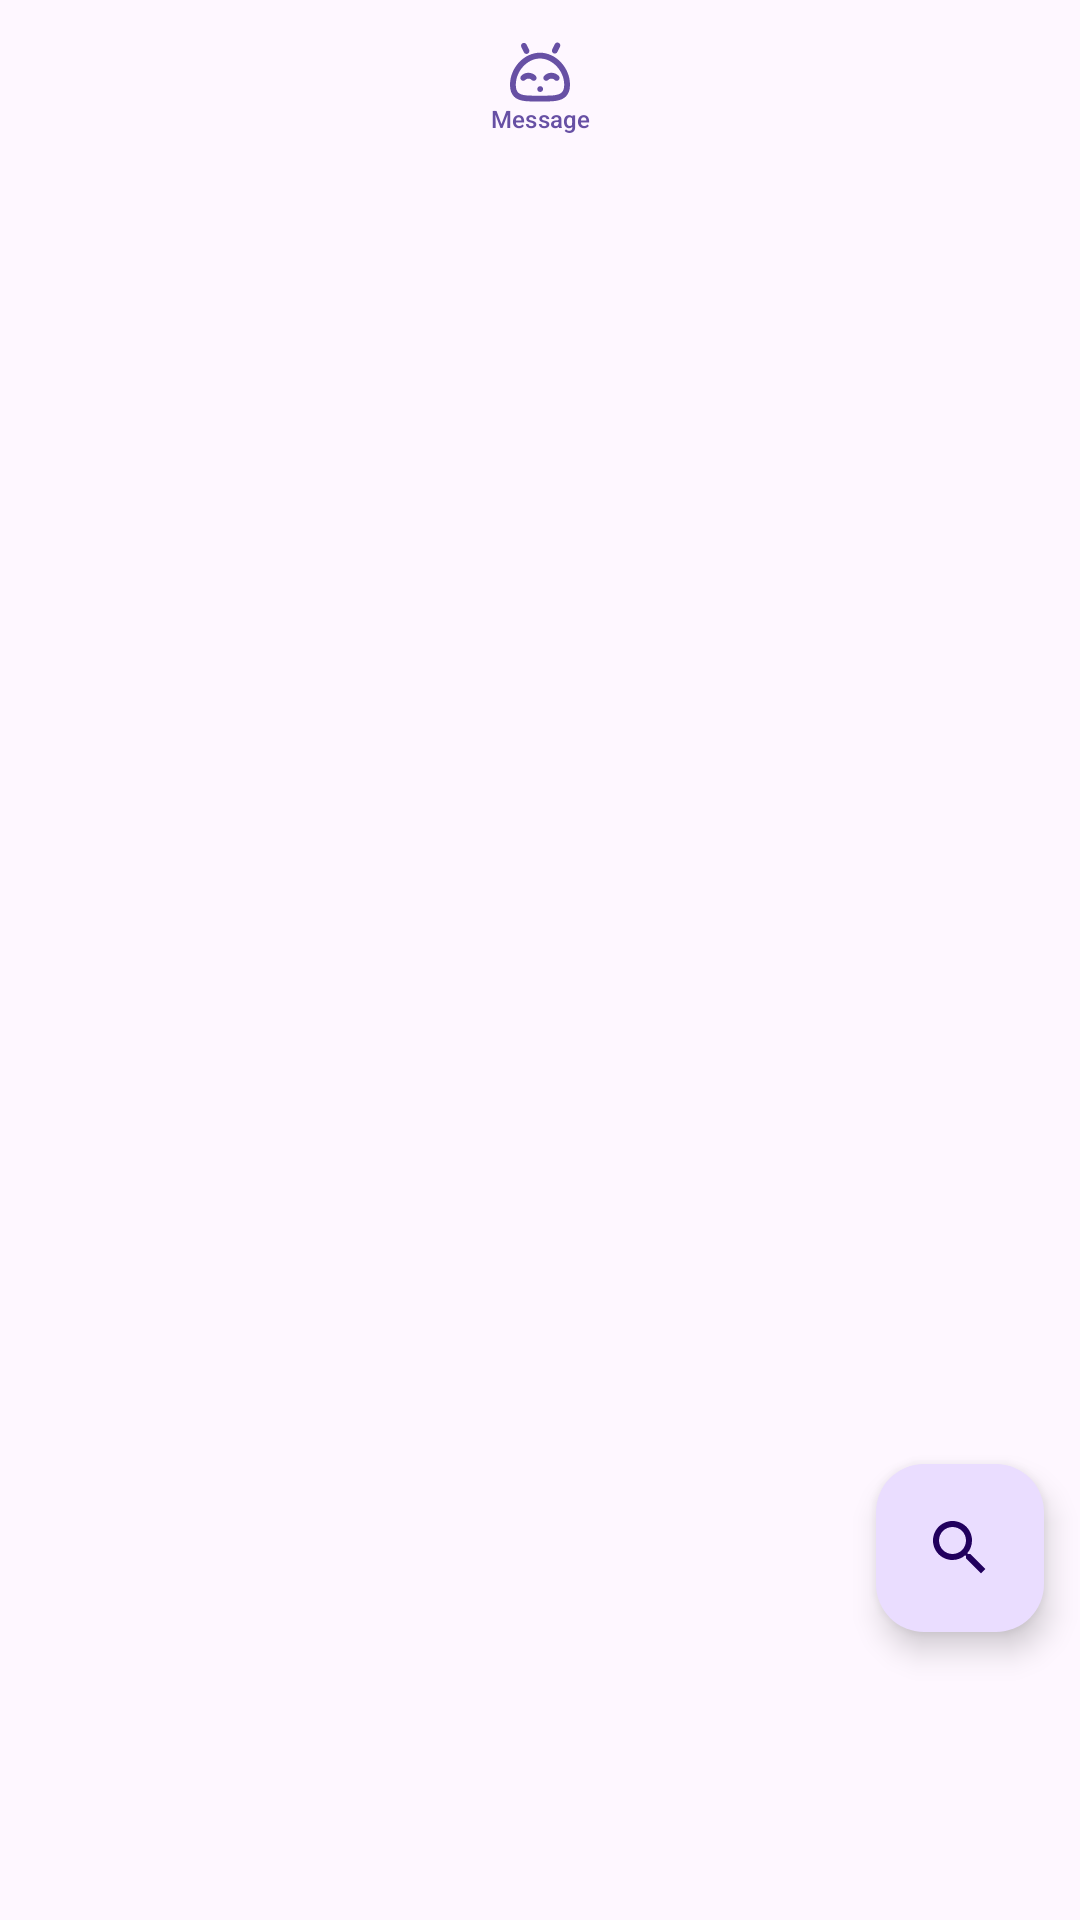

Icon click points for this 1080px×1920px phone screenshot, format point (x, y):
Search in roster: point (960, 1548)
